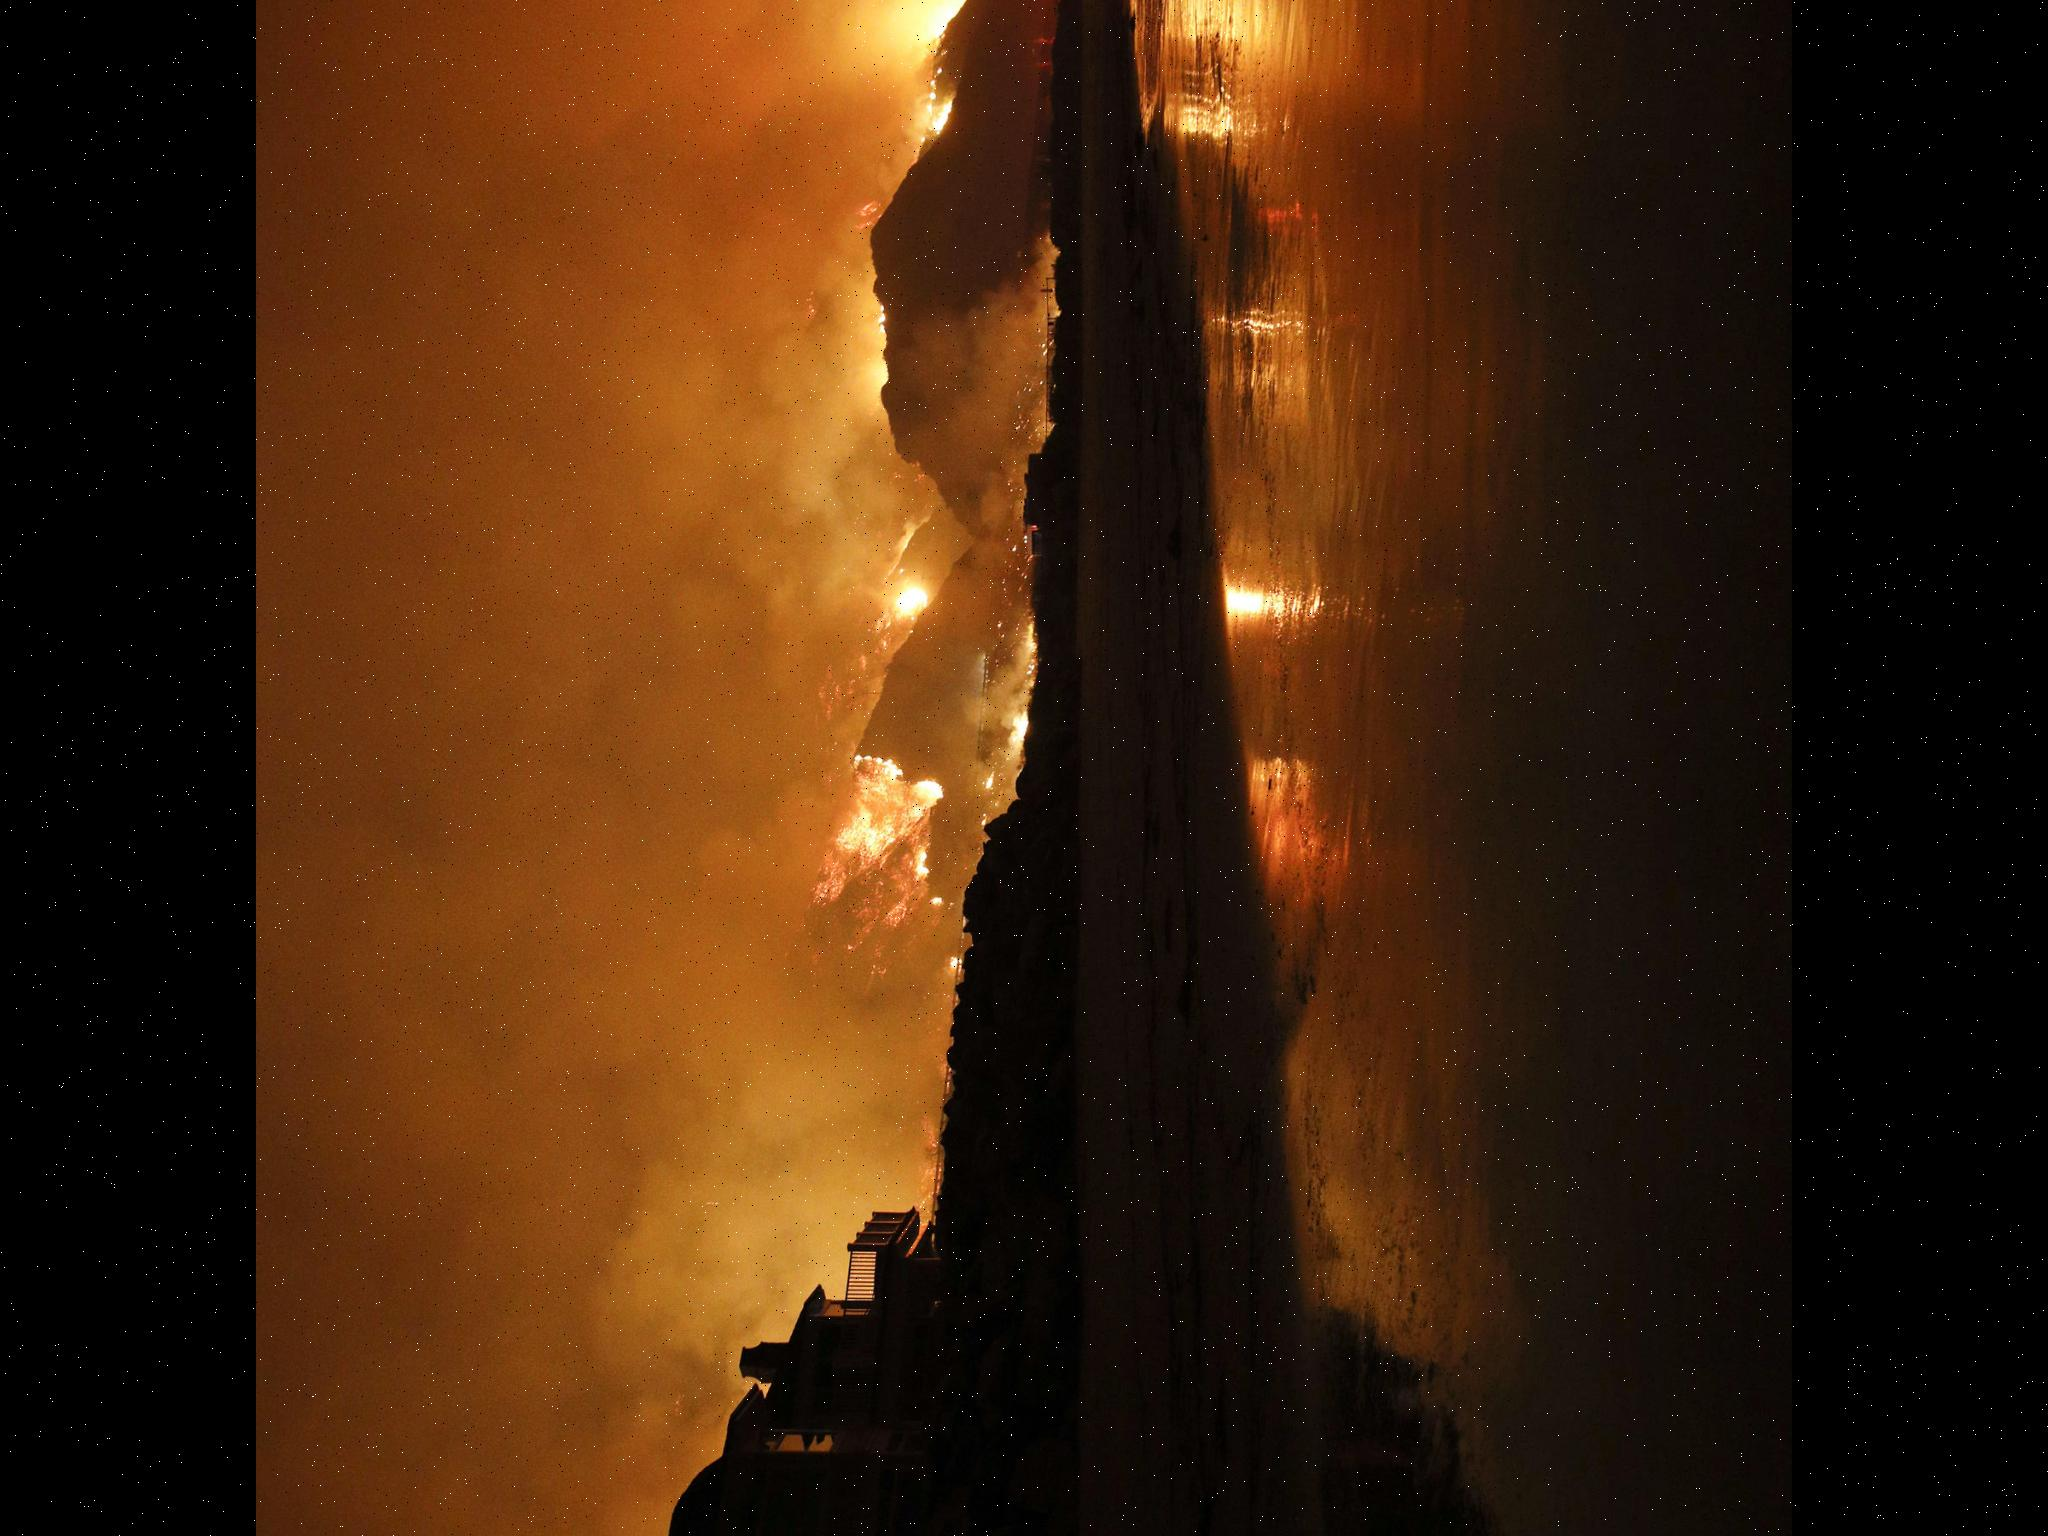fire: (792, 0, 1035, 1066)
